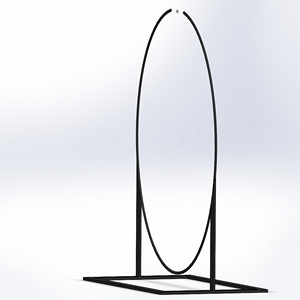circle: (82, 7, 270, 295)
